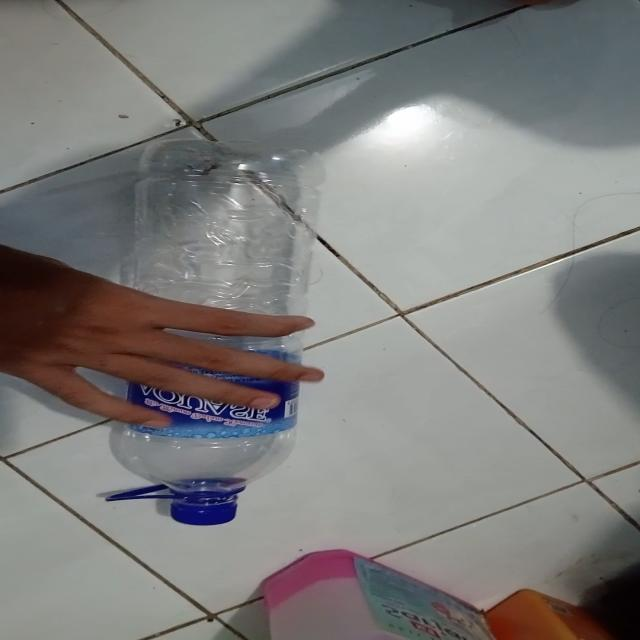Botol bekas: (103, 139, 324, 527)
